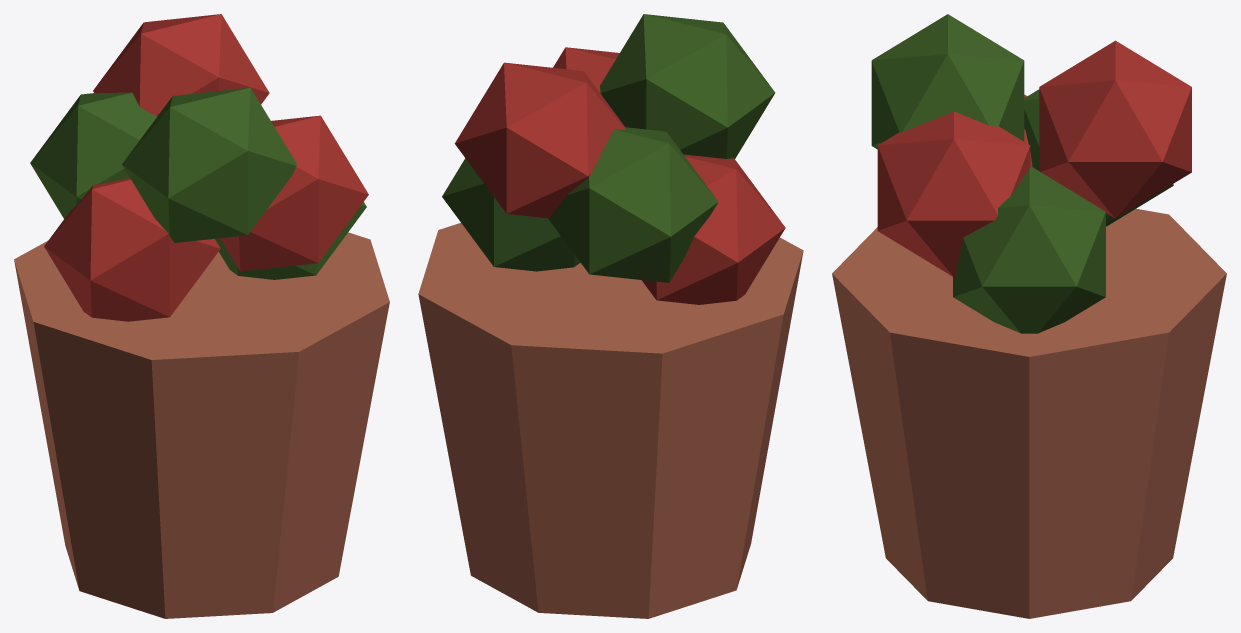
Rendered from flower-pot.glb.
3 renders of one model, left to right at view 1: azimuth 30°, elevation 25°; view 2: azimuth 150°, elevation 25°; view 3: azimuth 270°, elevation 25°, orthographic. The views are drawn at different scales.
Visible parts, largest first — view 1: props/flower-pot; view 2: props/flower-pot; view 3: props/flower-pot.
Boxes of the visible parts, bbox=[...] form: props/flower-pot: bbox=[14, 14, 389, 618]; props/flower-pot: bbox=[418, 14, 803, 618]; props/flower-pot: bbox=[832, 14, 1226, 618].
Size of the model in its own units: 0.44 by 0.6251 by 0.44.
